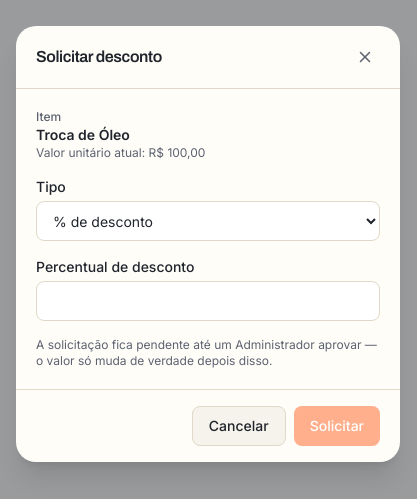
Test: SolicitarDescontoModal › switches to "valor" mode, clearing the previous input and relabeling the field
In the number field: [208, 301] box 36,281 -> 380,321, type "10"
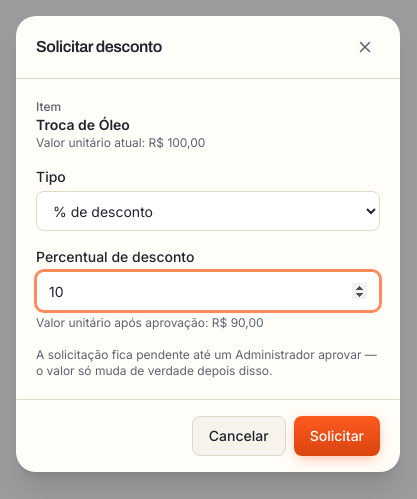
Select "Novo valor unitário" in the dropdown: [208, 211] box 36,191 -> 380,231
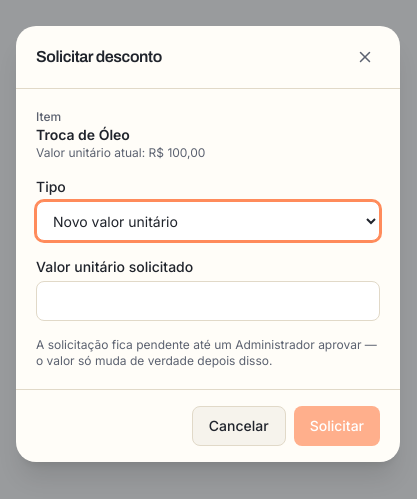
Expected: the number field is not empty, 36,281 -> 380,321
Expected: the text "Valor unitário solicitado" is shown, 36,258 -> 193,275
